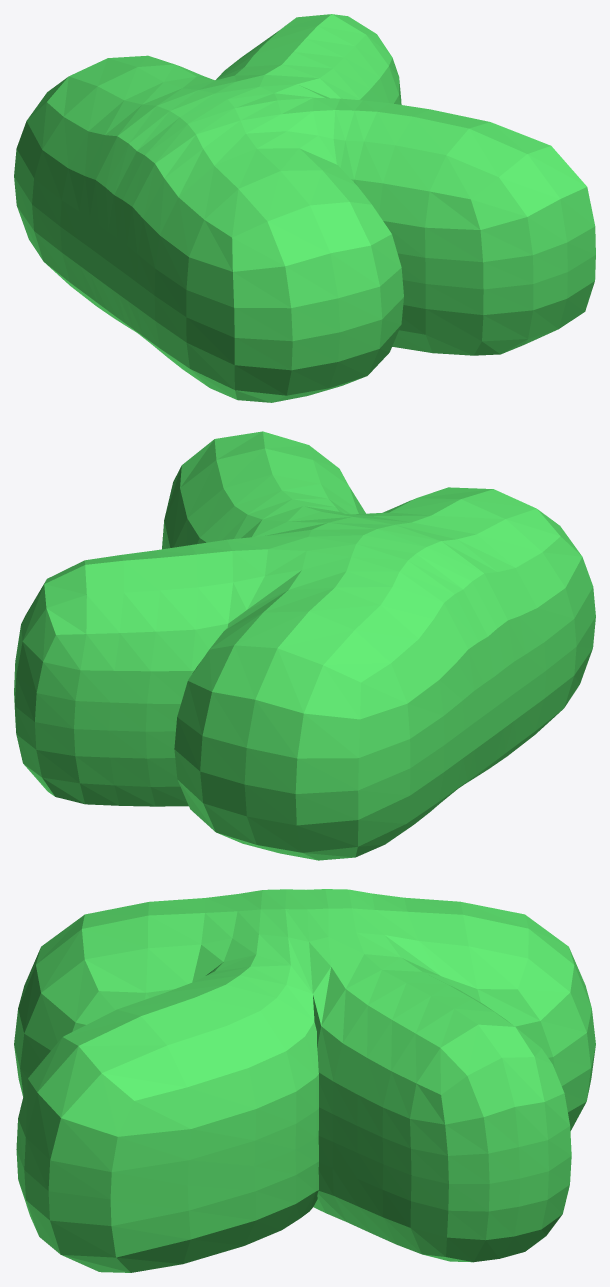
3 views of the same model, one above another, from view 1: azimuth 30°, elevation 25°; view 2: azimuth 150°, elevation 25°; view 3: azimuth 270°, elevation 25° (orthographic). The views are drawn at different scales.
Size of the model in its own units: 0.8338 by 0.4671 by 0.9776.
